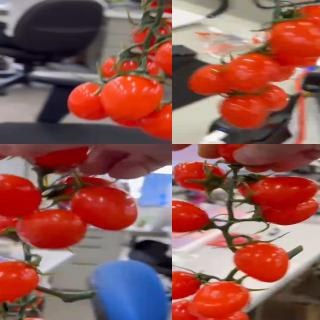tomato: (71, 183, 140, 231), (100, 76, 164, 124), (14, 210, 88, 250), (242, 175, 320, 209), (49, 175, 123, 208), (228, 51, 282, 96), (190, 282, 252, 320), (234, 241, 291, 282), (266, 19, 320, 59), (64, 79, 114, 120), (228, 83, 291, 114), (0, 173, 44, 217), (218, 94, 271, 130), (184, 64, 240, 98), (258, 195, 320, 225), (0, 259, 40, 304), (24, 148, 88, 175), (173, 161, 227, 193), (130, 17, 172, 55), (136, 99, 172, 140), (98, 50, 142, 82), (172, 200, 209, 234), (215, 144, 265, 169), (288, 4, 320, 35), (172, 269, 201, 300), (172, 299, 214, 320), (153, 37, 172, 83), (0, 212, 32, 239), (197, 308, 251, 320)
